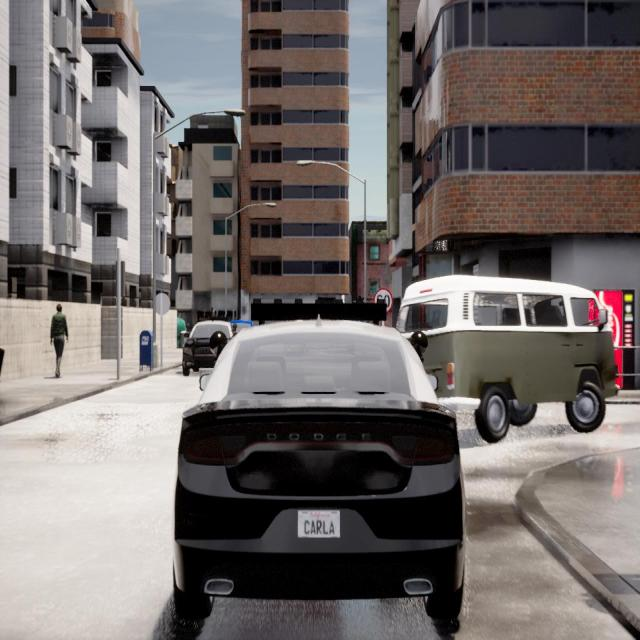Pedestrian: (50, 304, 68, 378)
Traffic_Signs: (375, 288, 392, 314), (156, 294, 168, 314)
Vehicle: (172, 318, 464, 618), (402, 278, 616, 434), (181, 323, 233, 374)
traffic_light: (120, 263, 126, 297)
